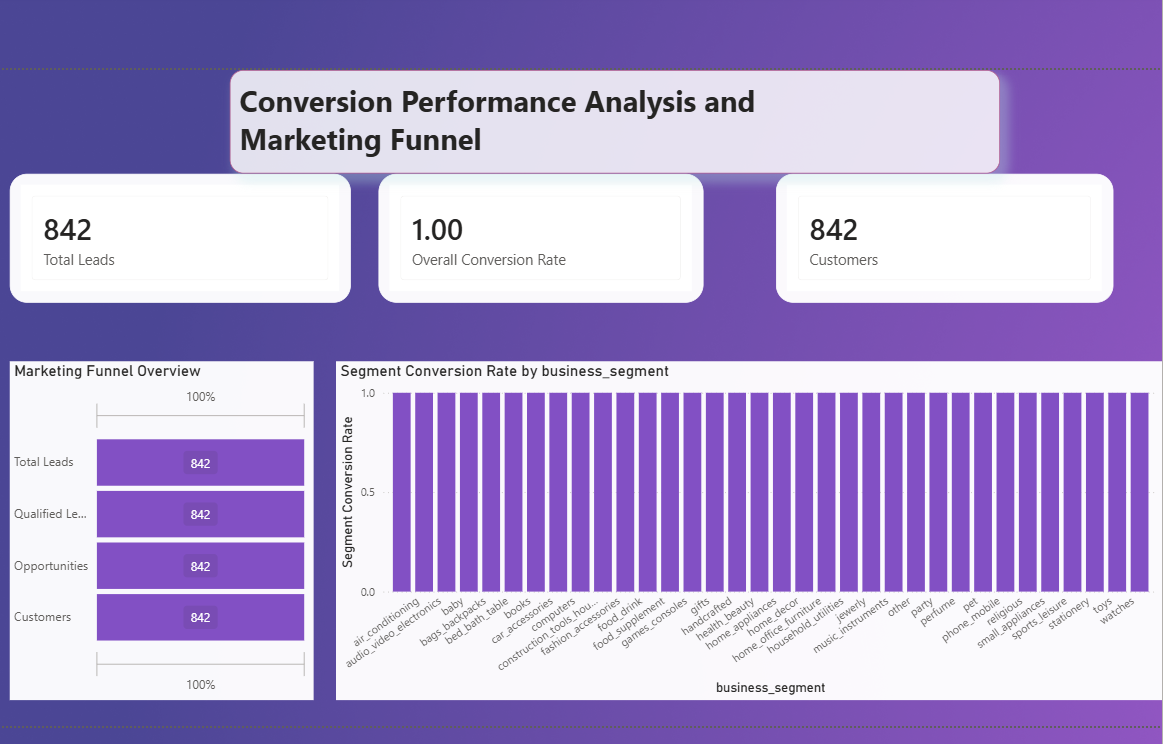

The dashboard page shown, as its layout file describes it:
{"tool":"powerbi","page":{"name":"Page 1","canvas":[1280,720],"ordinal":0},"visuals":[{"type":"funnel","title":"Marketing Funnel Overview","fields":{"Y":["marketing_funnel.Total Leads","marketing_funnel.Qualified Leads","marketing_funnel.Opportunities","marketing_funnel.Customers"]},"box":[15.1,319.7,333.4,371.9],"z":0},{"type":"cardVisual","fields":{"Data":["marketing_funnel.Total Leads"]},"box":[15.1,113.9,374.6,141.3],"z":1000},{"type":"cardVisual","fields":{"Data":["marketing_funnel.Customers"]},"box":[856.3,113.9,370.5,141.3],"z":2000},{"type":"cardVisual","fields":{"Data":["marketing_funnel.Overall Conversion Rate"]},"box":[419.9,113.9,356.8,141.3],"z":3000},{"type":"clusteredColumnChart","fields":{"Category":["marketing_funnel.business_segment"],"Y":["marketing_funnel.Segment Conversion Rate"]},"box":[373.2,319.7,907,371.9],"z":4000},{"type":"textbox","box":[256.6,0,845.3,113.9],"z":5000}]}

Visuals, with their boxes in screenshot pixels (x1, y1, x2, y2):
"Marketing Funnel Overview" funnel: locate(2, 361, 312, 706)
cardVisual - marketing_funnel.Total Leads: locate(2, 169, 350, 301)
cardVisual - marketing_funnel.Customers: locate(783, 169, 1128, 301)
cardVisual - marketing_funnel.Overall Conversion Rate: locate(378, 169, 709, 301)
clusteredColumnChart - marketing_funnel.business_segment x marketing_funnel.Segment Conversion Rate: locate(335, 361, 1162, 706)
textbox: locate(226, 64, 1012, 169)
